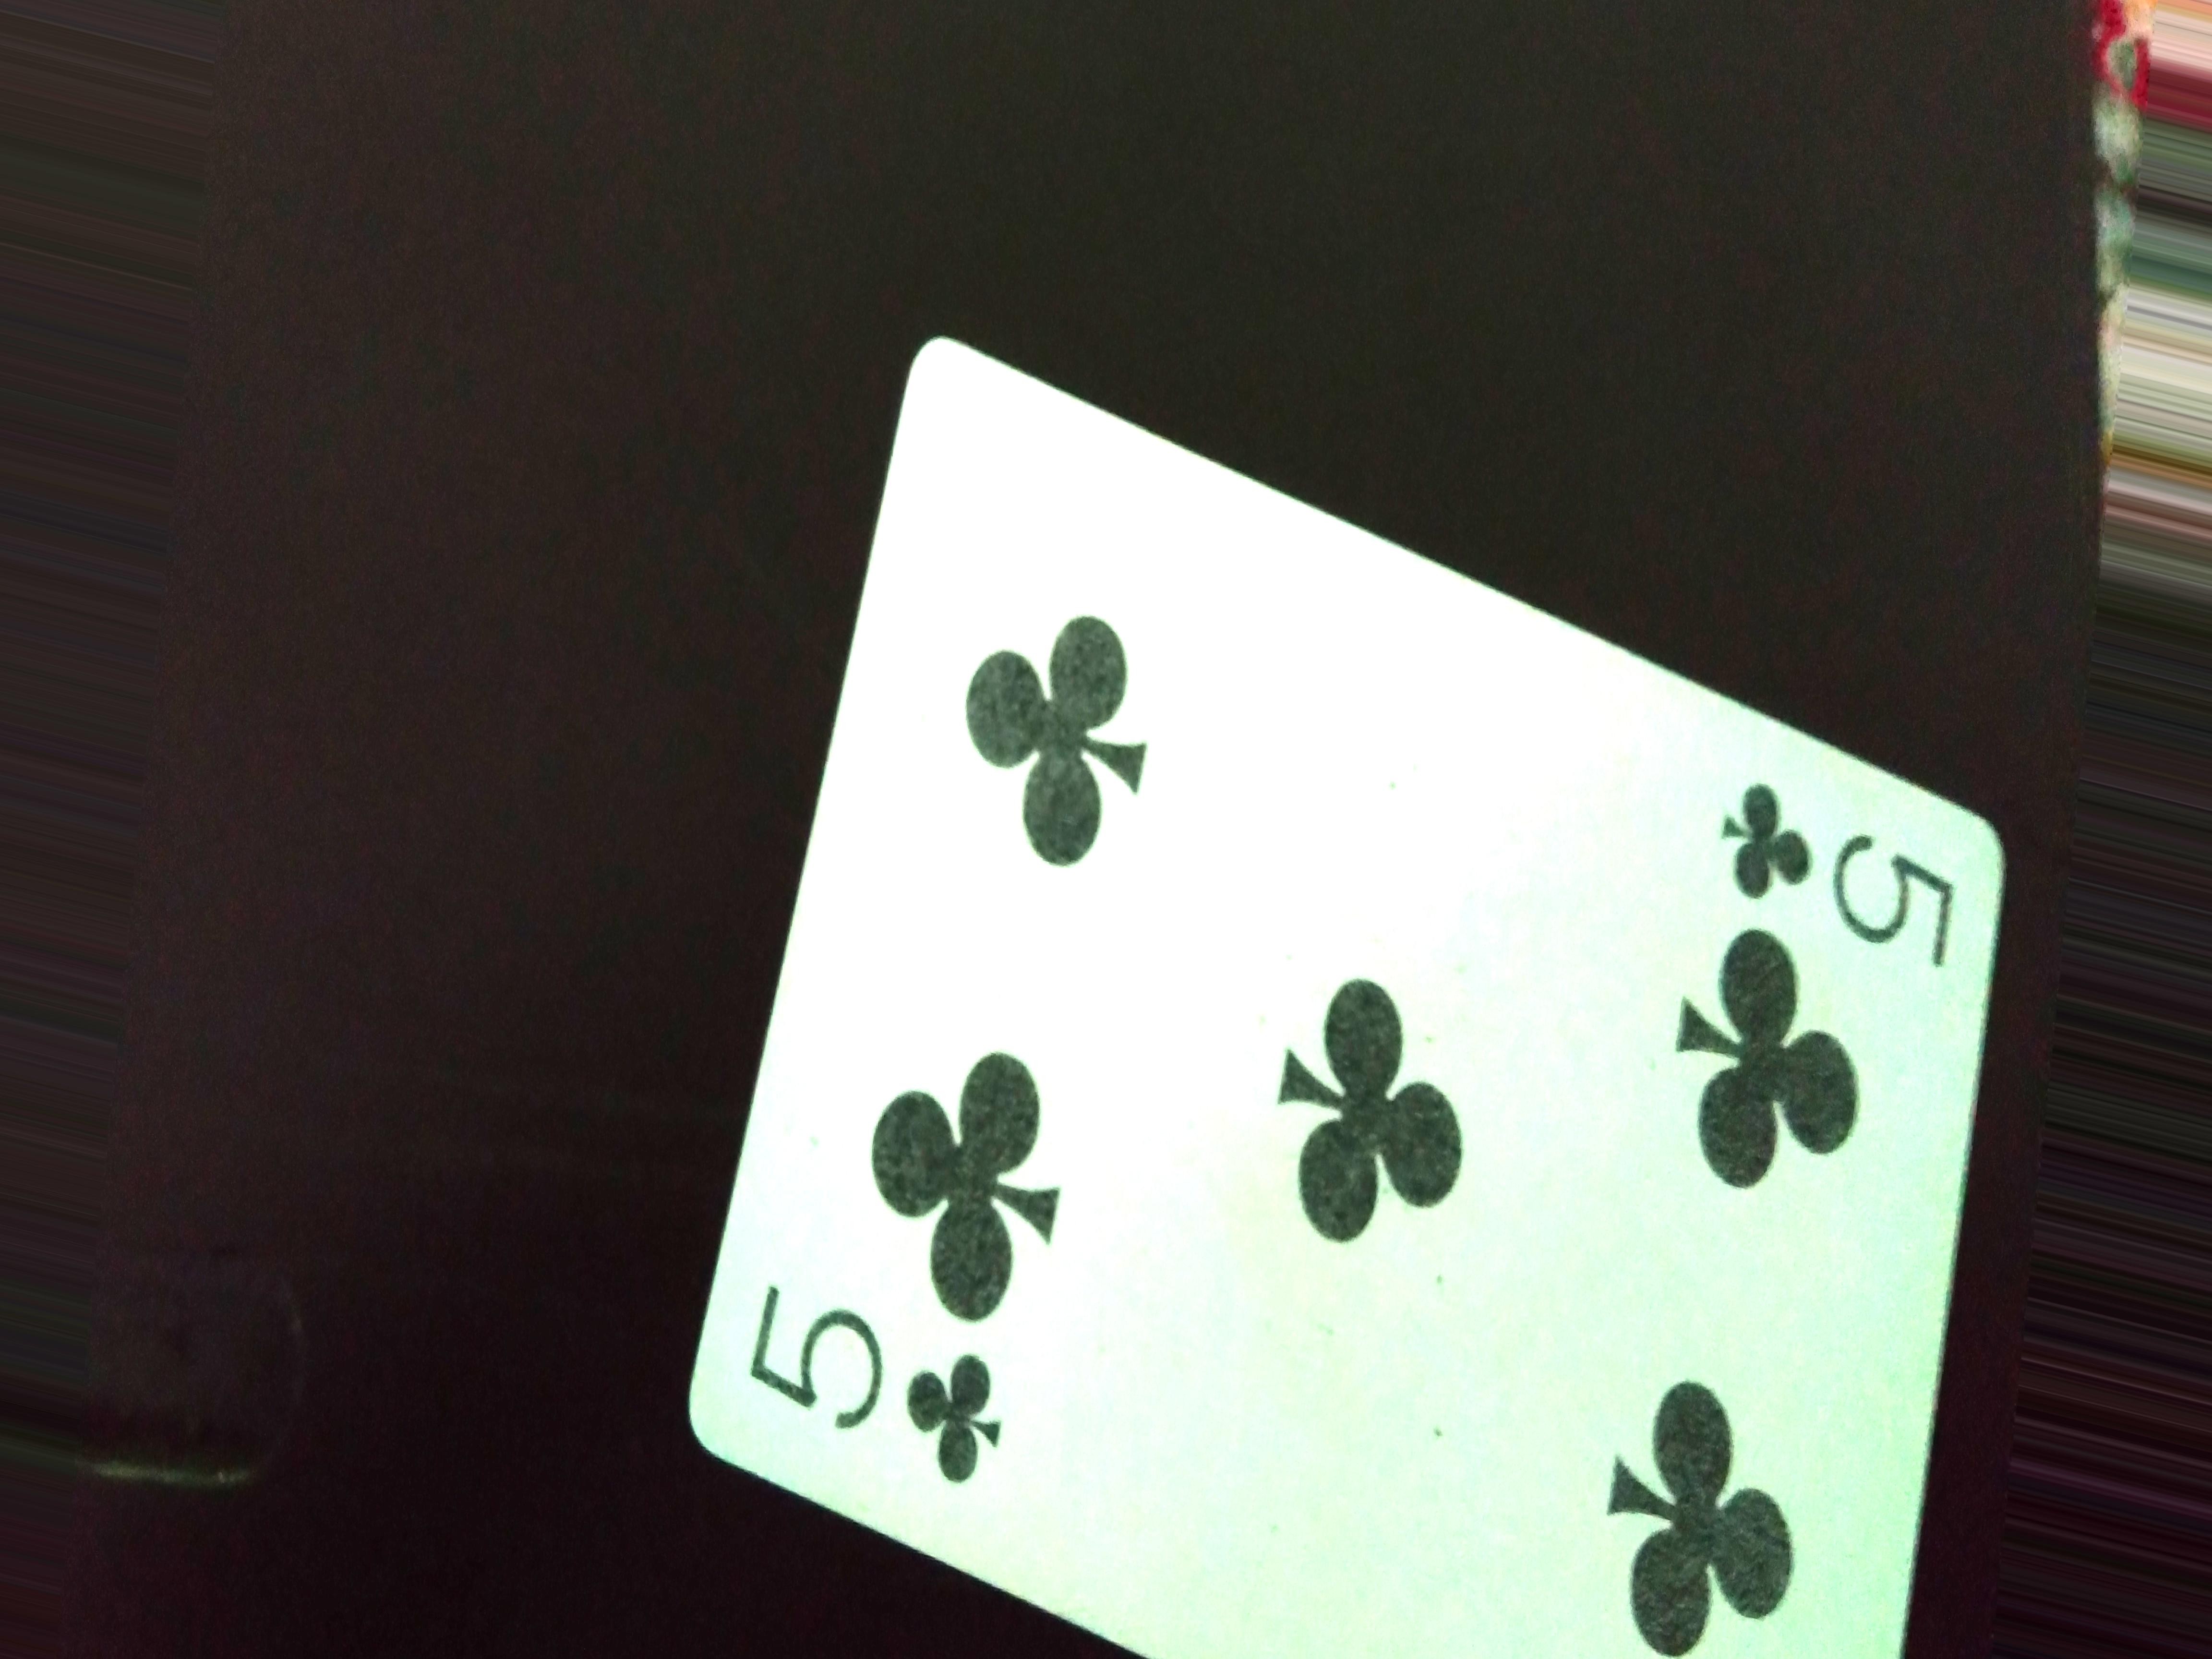5C: (1700, 767, 1982, 967)
